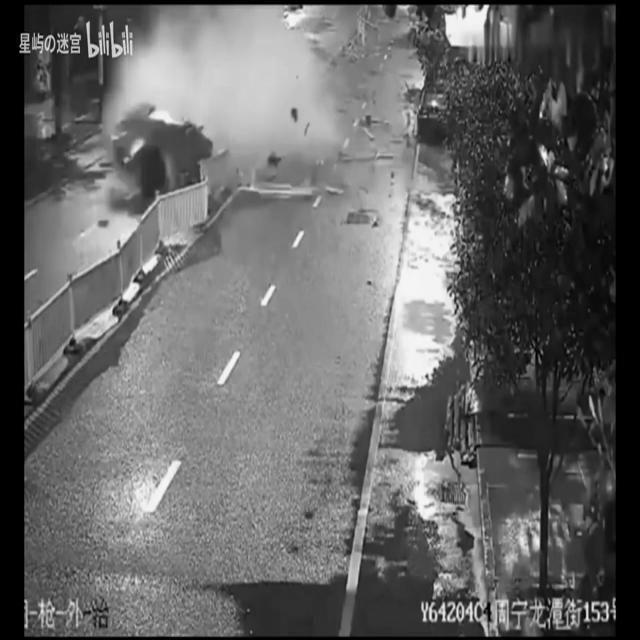accident: (104, 85, 234, 210)
